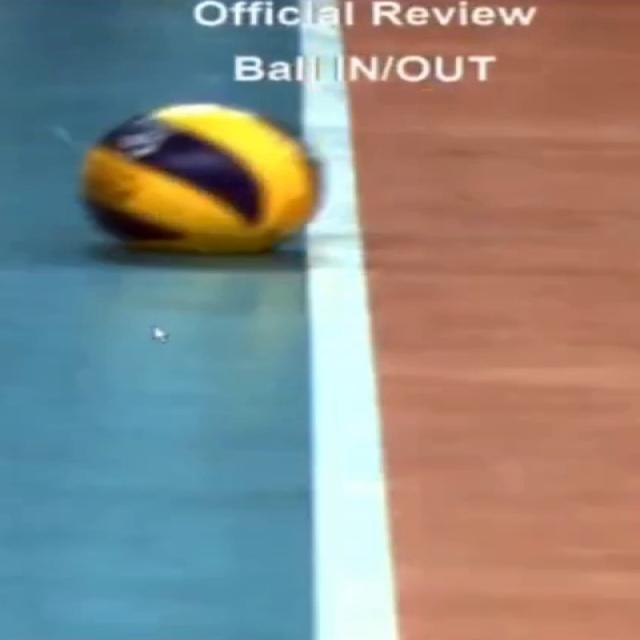Volleyball: (88, 105, 322, 252)
